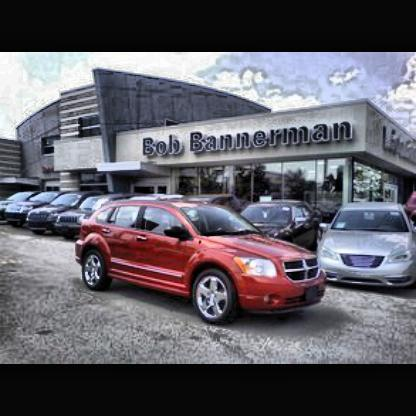Dodge Caliber Wagon 2007: (75, 201, 331, 327)
